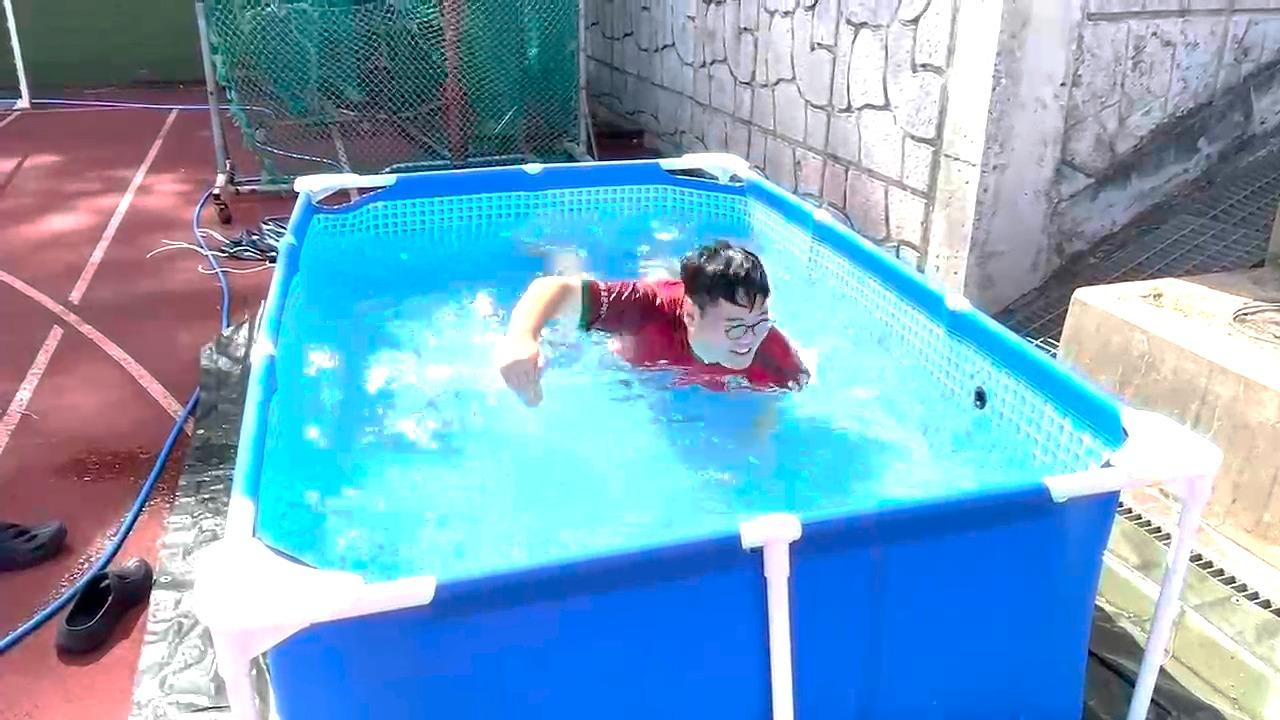Swimming: (488, 219, 824, 428)
